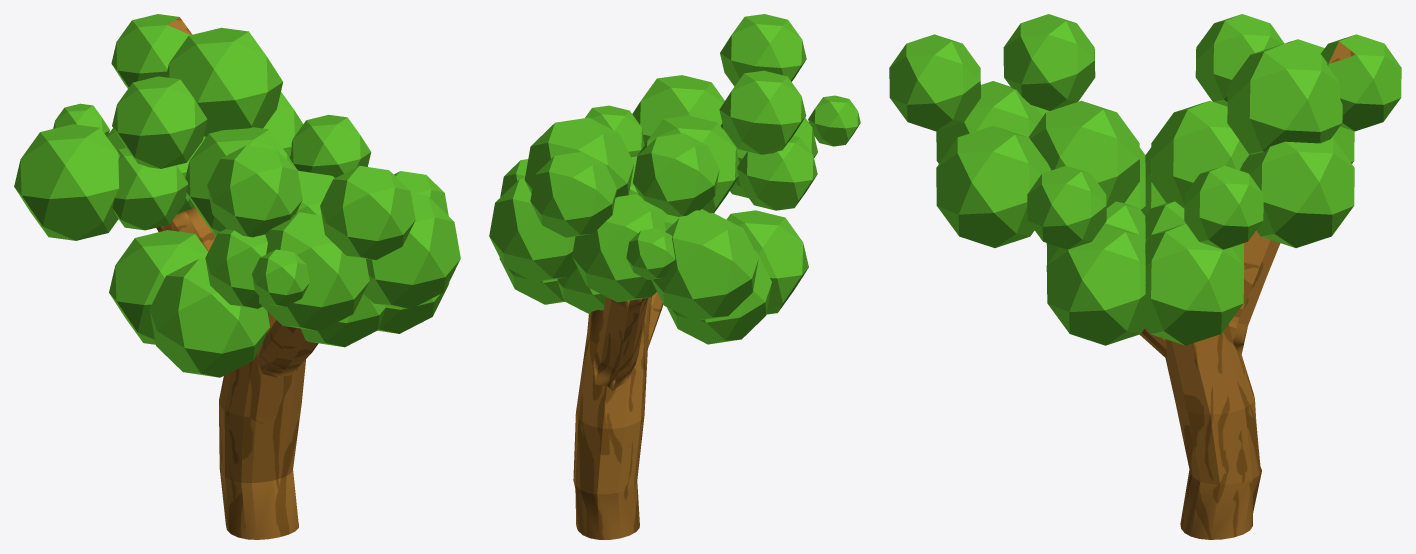
Rendered from MS_Tree_01.fbx.
3 views of the same model, side by side, from view 1: azimuth 30°, elevation 25°; view 2: azimuth 150°, elevation 25°; view 3: azimuth 270°, elevation 25° (orthographic). The views are drawn at different scales.
Visible parts, largest first — view 1: Hedra047; view 2: Hedra047; view 3: Hedra047.
Part boxes in pixels (x1,y1,x2,y2): Hedra047: (14,14,460,539); Hedra047: (489,14,860,539); Hedra047: (889,14,1401,539).
Bounding box in the file's own units: 781 × 1075 × 1058.
